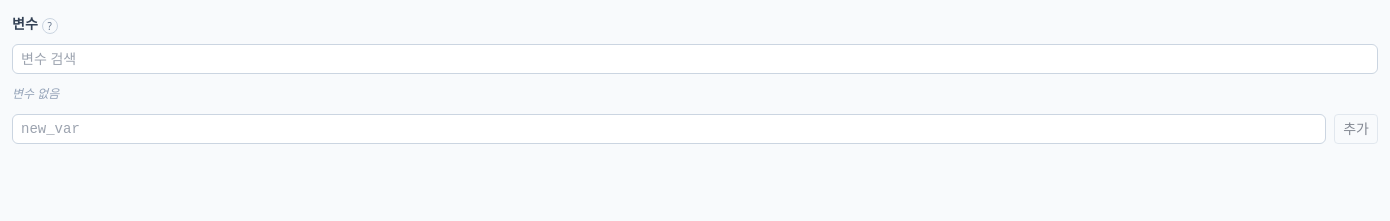
Test case: VariablesPanel › clears the search query when a variable is added
Type "zzz" into the field with placeholder "변수 검색" at (695, 59), box [12, 44, 1378, 74]
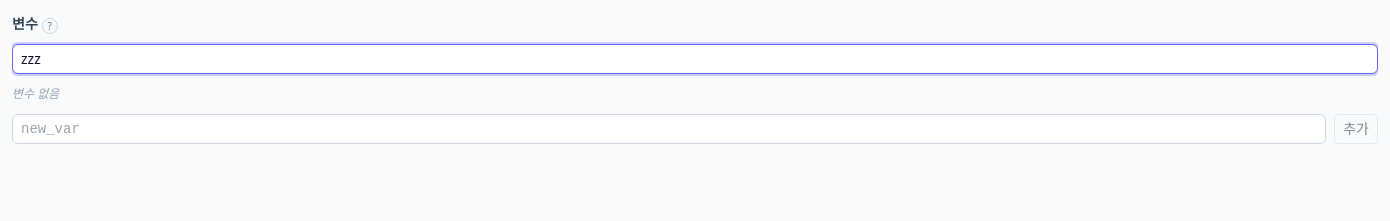
Type "brandnew" into the field with placeholder "new_var" at (669, 129), box [12, 114, 1326, 144]
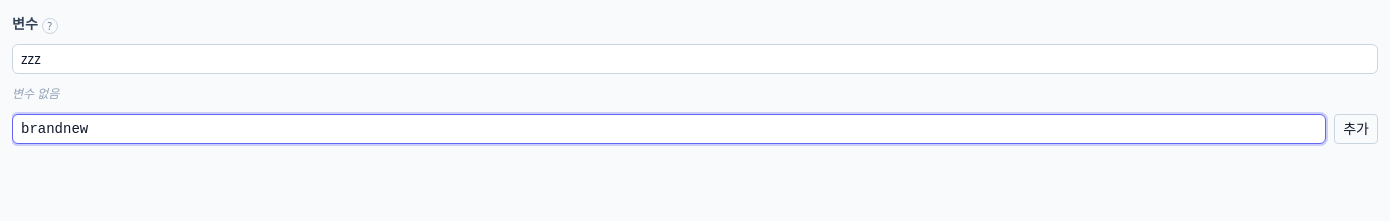
Click the button "추가" at (1356, 129), box [1334, 114, 1378, 144]
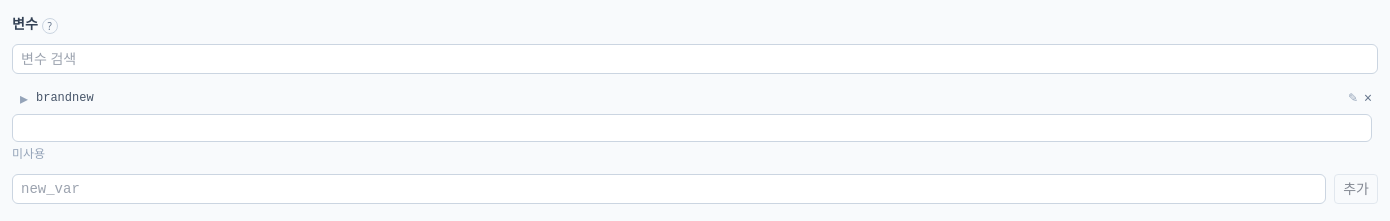
Expected: the field with placeholder "변수 검색" is empty, [12, 44, 1378, 74]
Expected: the text "brandnew" is shown, [36, 91, 94, 105]
